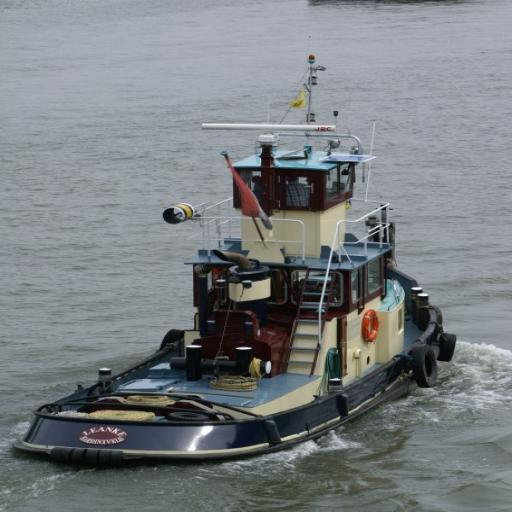tugboat: (11, 118, 463, 476)
